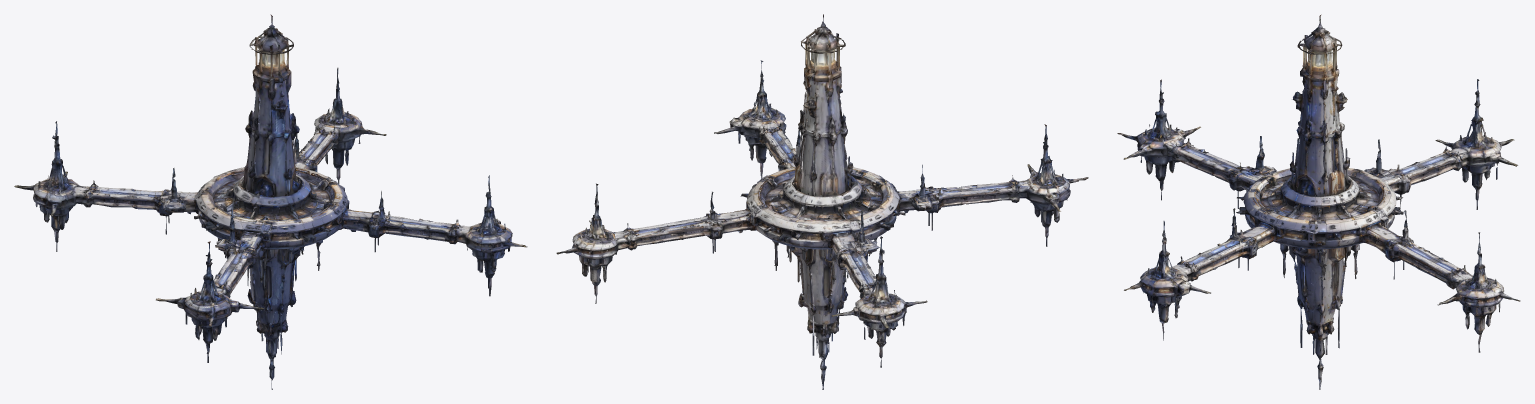
The model's file is light_beacon_station.glb.
3 renders of one model, left to right at view 1: azimuth 30°, elevation 25°; view 2: azimuth 150°, elevation 25°; view 3: azimuth 270°, elevation 25°, orthographic.
Parts seen in each view (by area): view 1: light_beacon_station; view 2: light_beacon_station; view 3: light_beacon_station.
Boxes of the visible parts, x1,y1,x2,y2 form: light_beacon_station: (14,14,527,389); light_beacon_station: (556,14,1088,389); light_beacon_station: (1117,14,1520,389).
Size of the model in its own units: 0.9555 by 0.9774 by 0.9534.
Materials: 1 (1 with a texture image).
